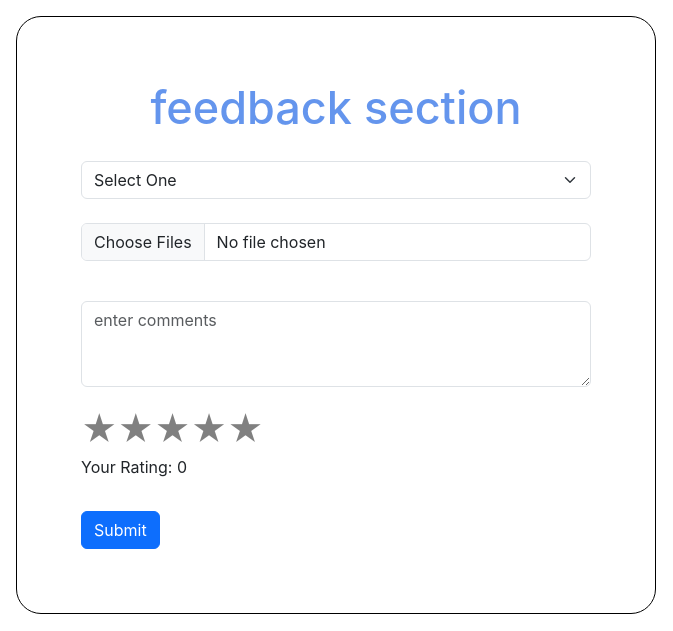
Test: Feedback_page Component › sets rating correctly when star is clicked
The image size is (673, 631).
Click the 3rd text "★" at [172, 428], box [154,408,191,450]
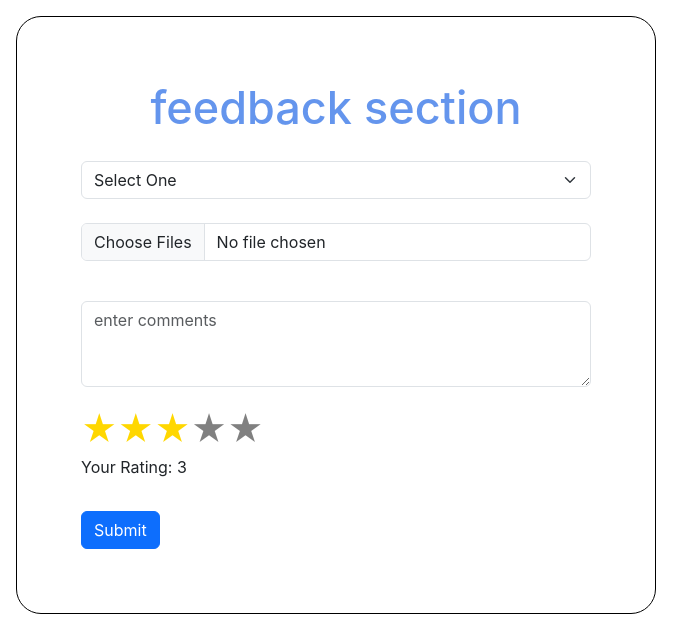
expect the text "Your Rating: 3" is shown: met, box [81,457,187,477]
